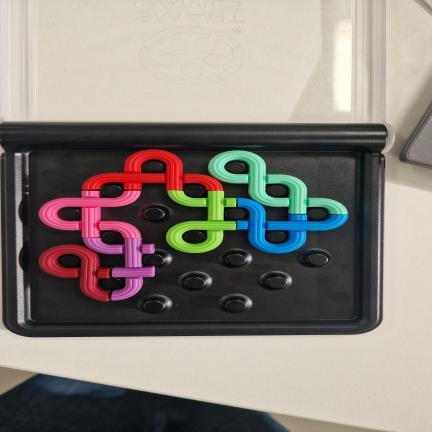B_SkyBlue: (237, 199, 347, 253)
E_Red: (83, 151, 222, 190)
F_Teal: (208, 151, 347, 214)
G_Pink: (39, 191, 141, 238)
H_Purple: (84, 238, 154, 300)
J_DarkRed: (39, 245, 111, 301)
K_YellowGreen: (166, 190, 236, 253)
board: (2, 123, 387, 336)
hinge: (0, 119, 395, 148)
pin: (143, 249, 172, 267), (143, 207, 165, 221), (143, 299, 165, 313), (101, 277, 124, 290), (59, 207, 80, 221), (101, 185, 123, 198), (225, 207, 247, 220), (101, 231, 123, 244), (59, 254, 81, 267), (307, 253, 329, 266), (266, 276, 288, 289), (184, 276, 206, 289), (225, 161, 246, 174), (308, 208, 329, 221), (226, 253, 247, 266), (225, 299, 246, 312), (265, 231, 287, 243), (183, 231, 205, 243), (185, 185, 205, 198), (143, 161, 164, 173), (267, 185, 287, 197)
